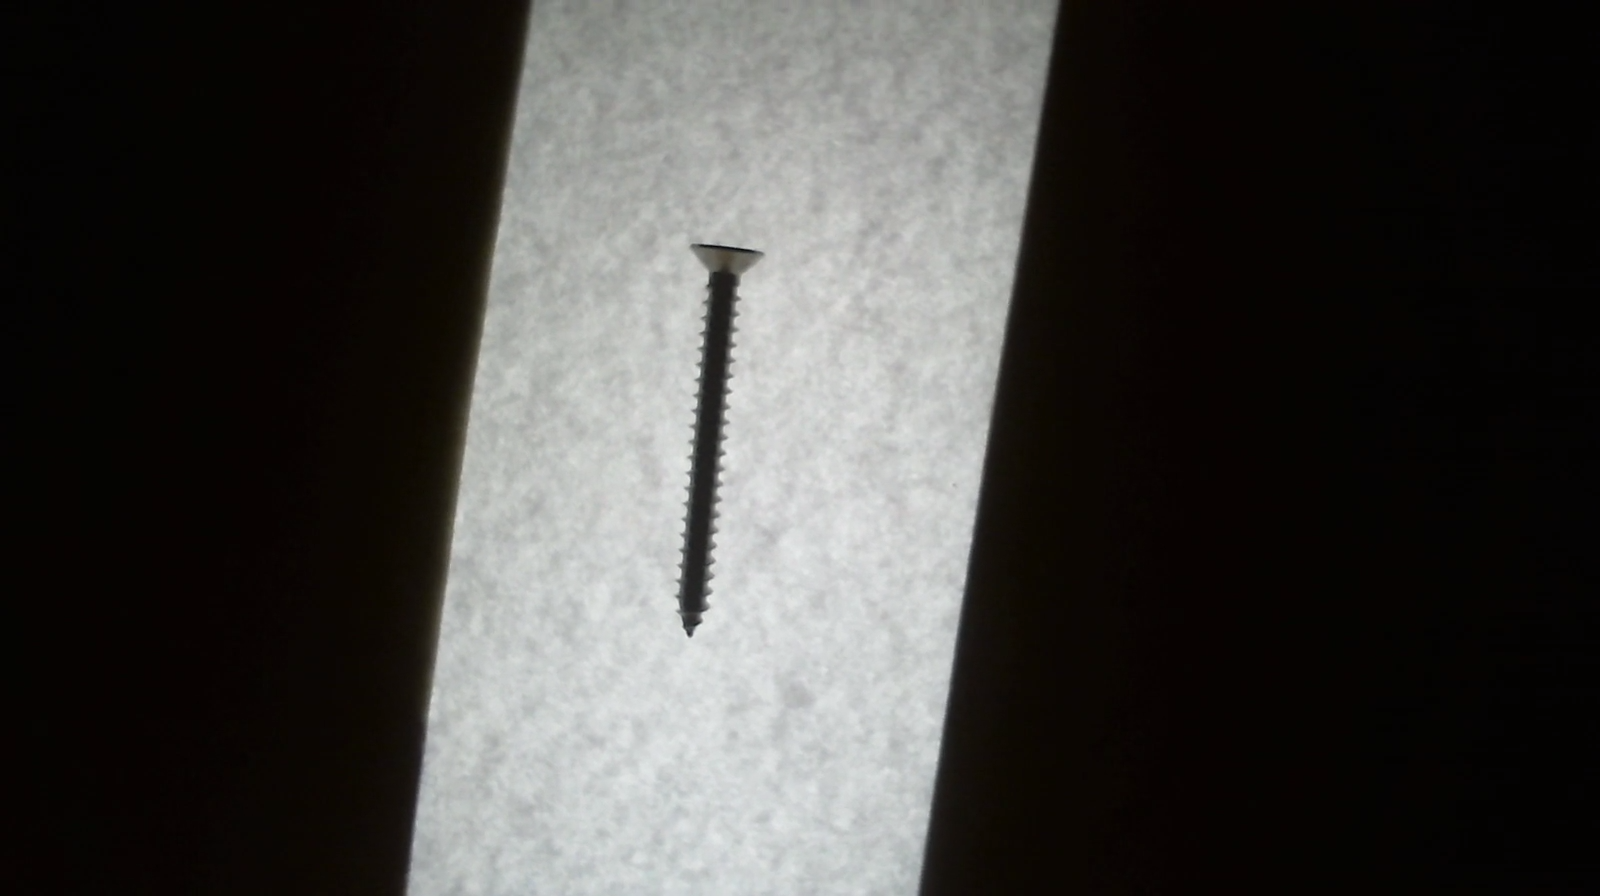S002: (637, 232, 787, 655)
